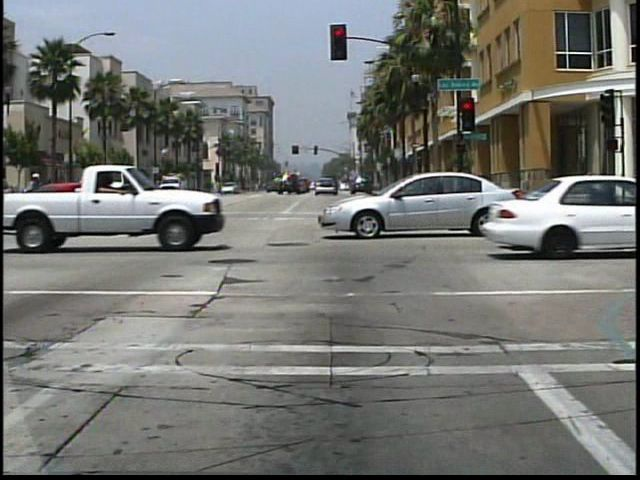person: (25, 167, 47, 221)
